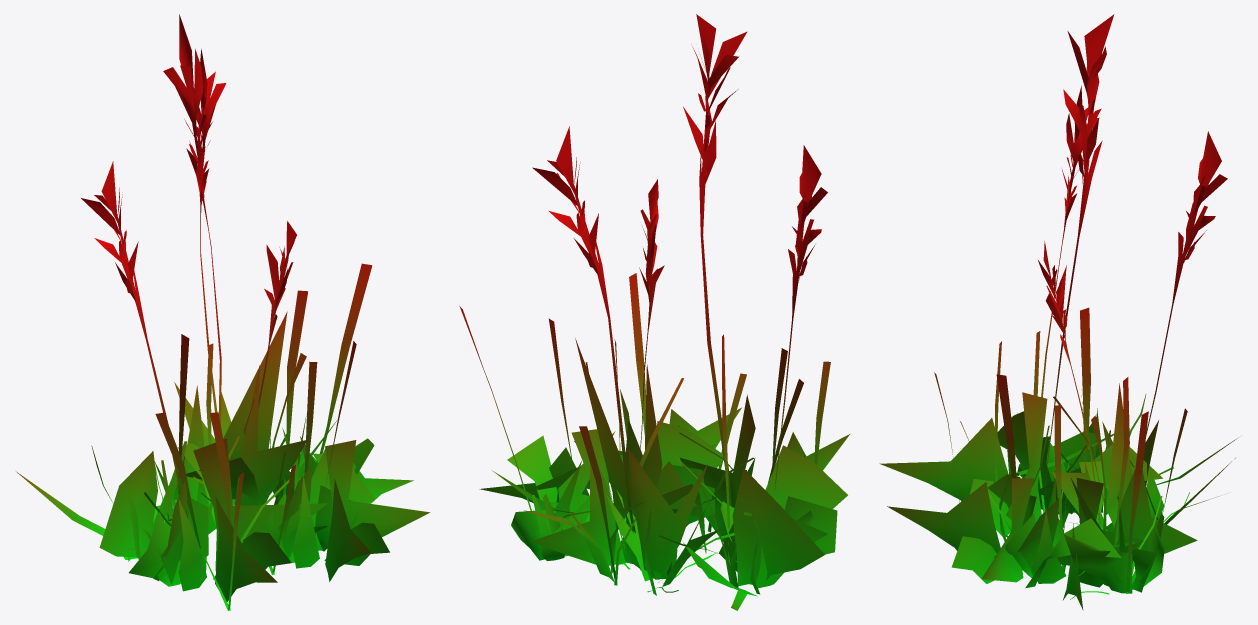
Rendered from Tundra Grass_LOD4_Var17_wk2oaeyqx.fbx.
3 views of the same model, side by side, from view 1: azimuth 30°, elevation 25°; view 2: azimuth 150°, elevation 25°; view 3: azimuth 270°, elevation 25° (orthographic). The views are drawn at different scales.
Parts seen in each view (by area): view 1: _t4ec_Var17_LOD4; view 2: _t4ec_Var17_LOD4; view 3: _t4ec_Var17_LOD4.
Part boxes in pixels (x1,y1,x2,y2): _t4ec_Var17_LOD4: (16,14,430,610); _t4ec_Var17_LOD4: (459,14,849,610); _t4ec_Var17_LOD4: (879,14,1238,610).
Bounding box in the file's own units: 40.68 × 62.93 × 40.11.
